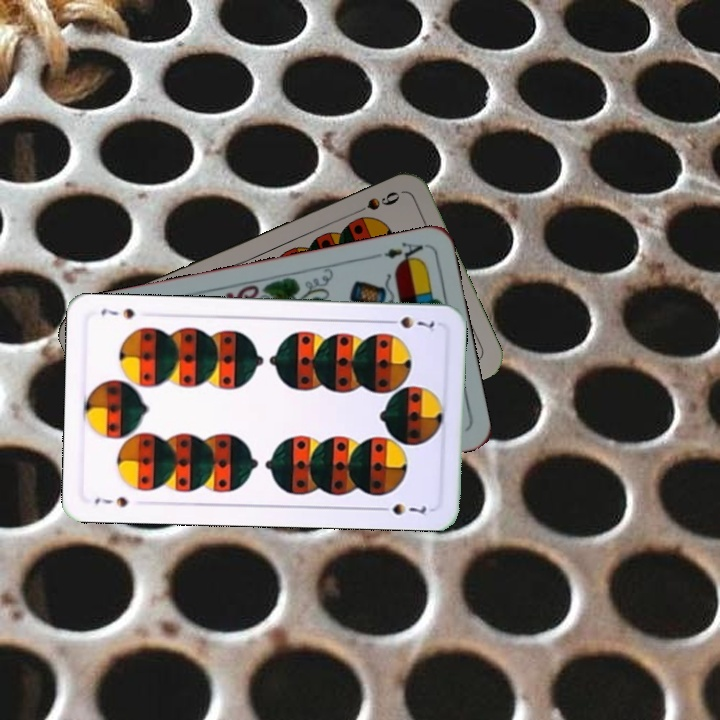EA: (369, 238, 426, 267)
S7: (381, 312, 436, 331), (91, 492, 131, 510)
S9: (347, 187, 403, 219)
